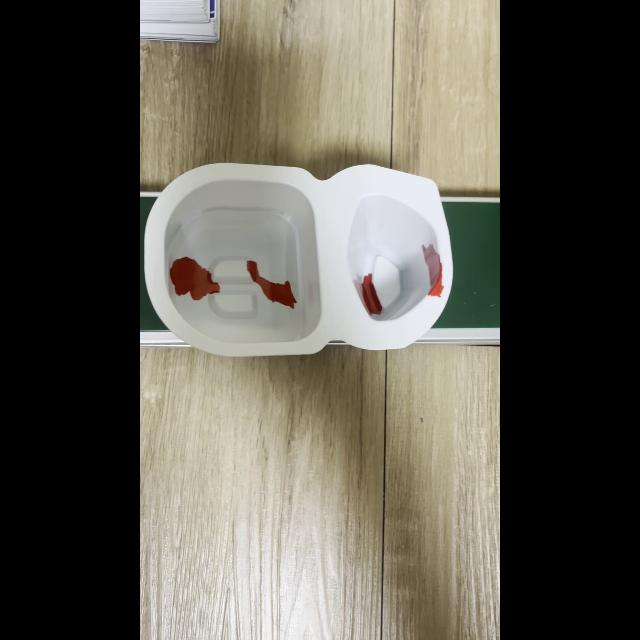dirty: (154, 184, 450, 340)
